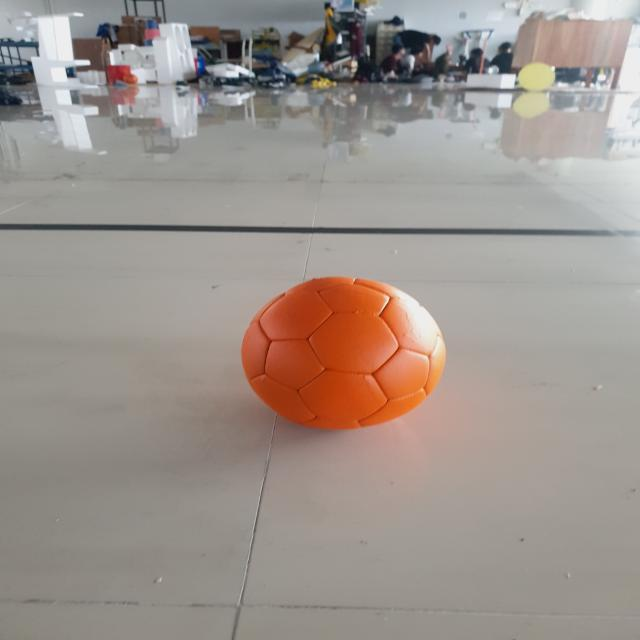bola: (202, 243, 466, 450)
